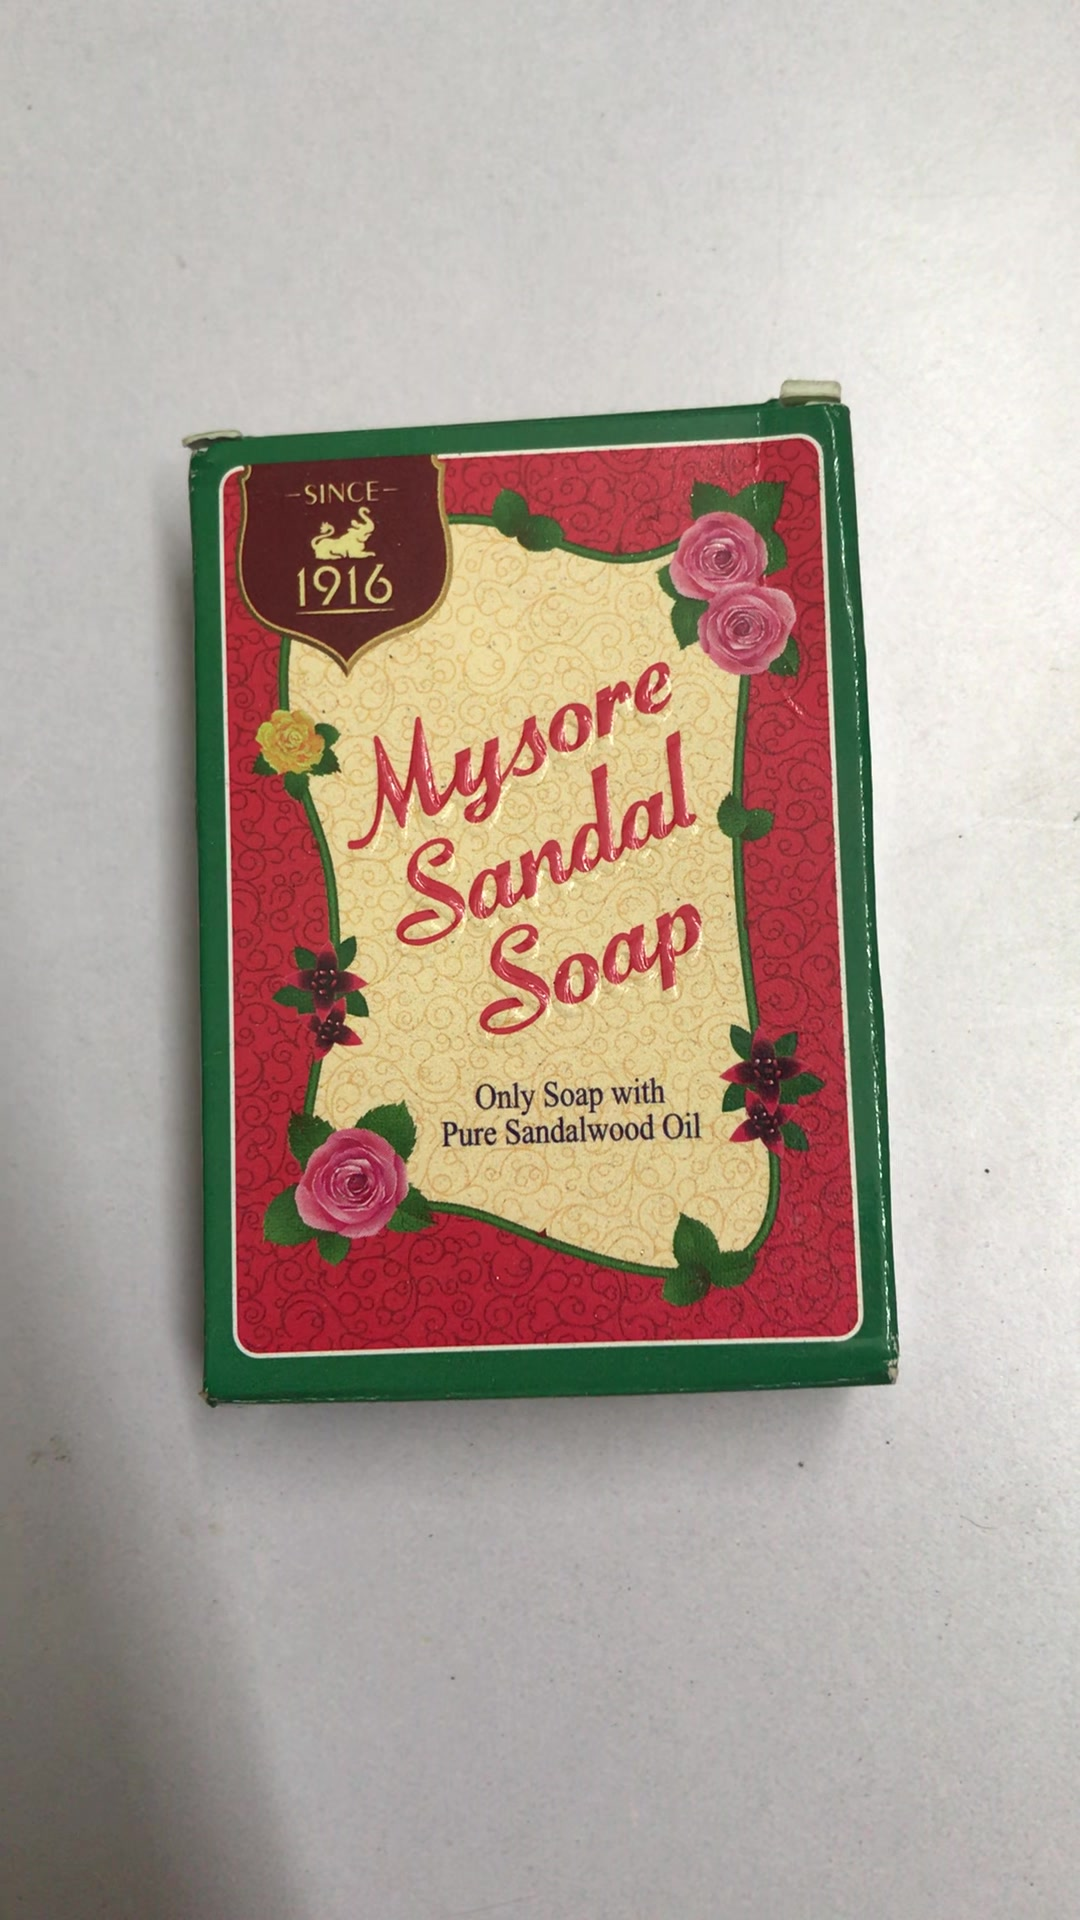mysore sandal soap: (190, 415, 895, 1393)
